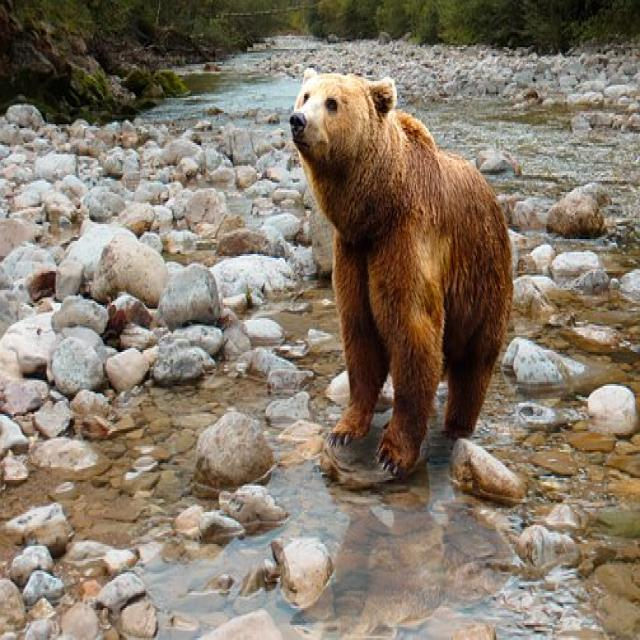Bear: (290, 70, 513, 480)
